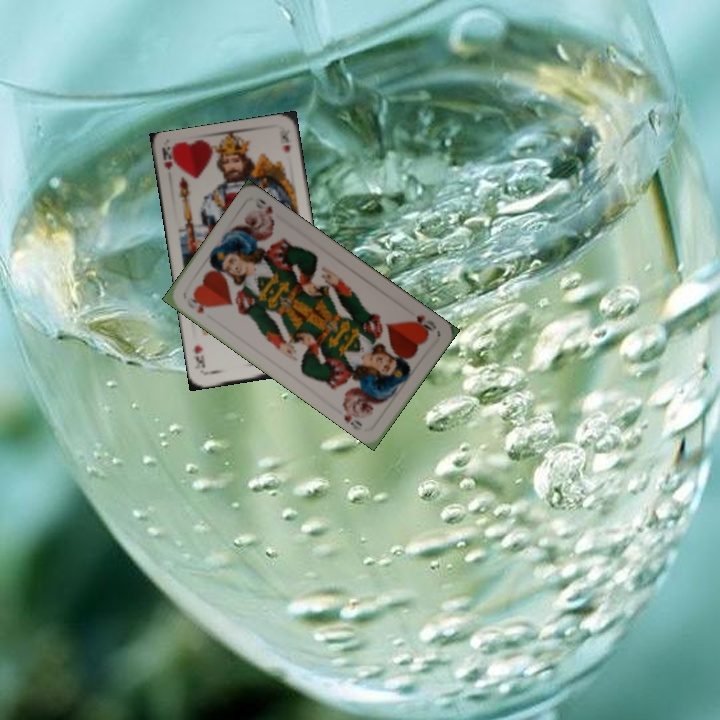HK: (158, 145, 177, 172)
HO: (406, 311, 439, 336), (183, 293, 212, 316)
